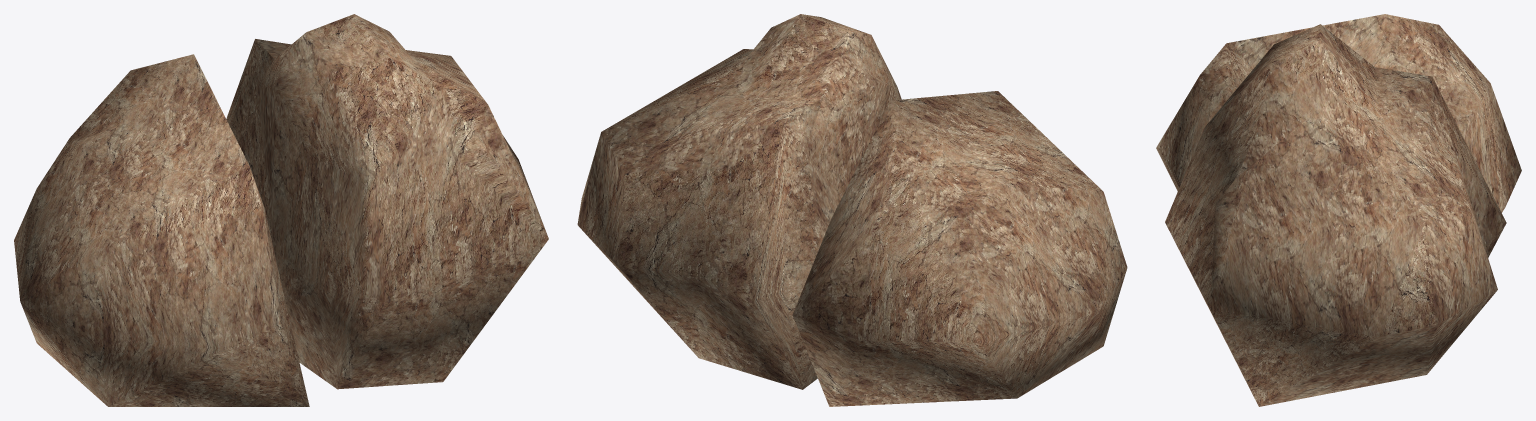
The model's file is rock_tatt_boulder_tan_a2_l2.fbx.
3 renders of one model, left to right at view 1: azimuth 30°, elevation 25°; view 2: azimuth 150°, elevation 25°; view 3: azimuth 270°, elevation 25°, orthographic. The views are drawn at different scales.
Parts seen in each view (by area): view 1: mesh_node; view 2: mesh_node; view 3: mesh_node.
Boxes of the visible parts, box(x1,y1,x2,y2) form: mesh_node: box(14, 14, 548, 406); mesh_node: box(577, 14, 1127, 406); mesh_node: box(1156, 14, 1521, 406).
Size of the model in its own units: 9.41 by 6.24 by 6.08.
